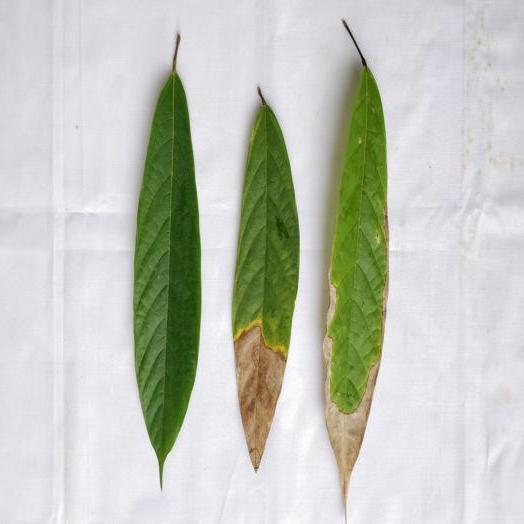Healthy Leaf: (134, 35, 200, 487)
Potassium: (323, 20, 388, 504), (232, 89, 299, 471)
